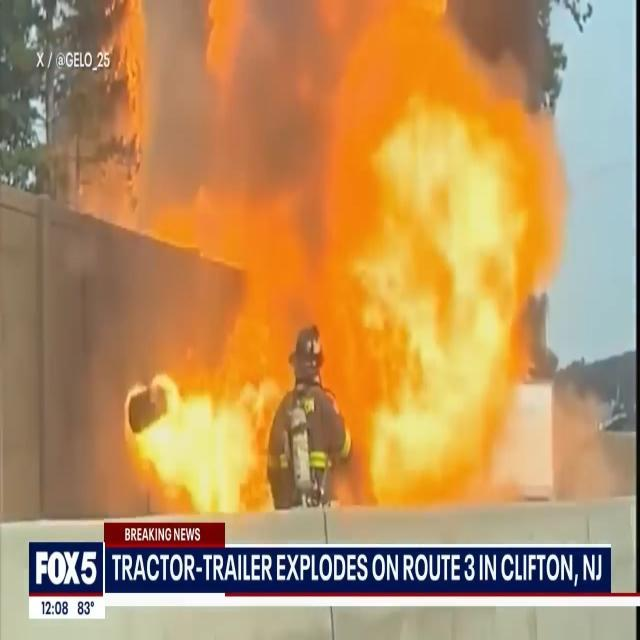fire: (114, 5, 556, 506)
